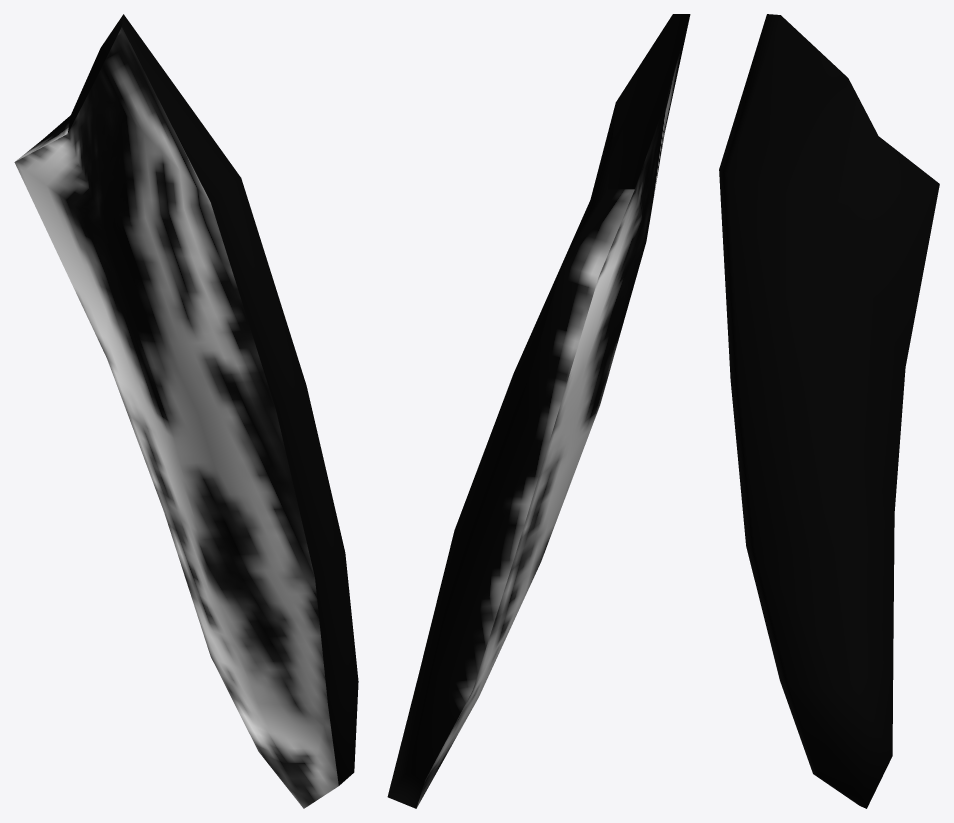
Rendered from Pengu_Aleta_der.obj.
The picture shows the model from 3 angles, left to right: view 1: azimuth 30°, elevation 25°; view 2: azimuth 150°, elevation 25°; view 3: azimuth 270°, elevation 25°; orthographic projection. The views are drawn at different scales.
Parts seen in each view (by area): view 1: Aleta_pingu_Box003.001; view 2: Aleta_pingu_Box003.001; view 3: Aleta_pingu_Box003.001.
Part boxes in pixels (box(x1,y1,x2,y2)): Aleta_pingu_Box003.001: box(14, 14, 358, 808); Aleta_pingu_Box003.001: box(387, 14, 690, 808); Aleta_pingu_Box003.001: box(719, 14, 939, 808).
Bounding box in the file's own units: 0.8643 × 2.7 × 0.7704.
